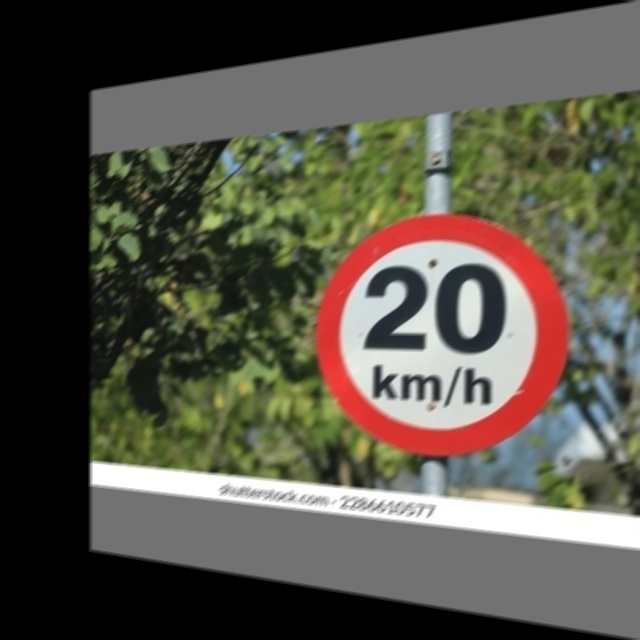Speed_Limit_20: (321, 209, 570, 467)
